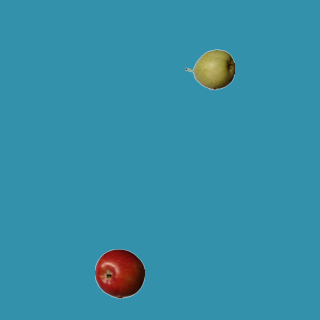Apple Braeburn: (94, 248, 144, 298)
Pear: (184, 44, 234, 94)
